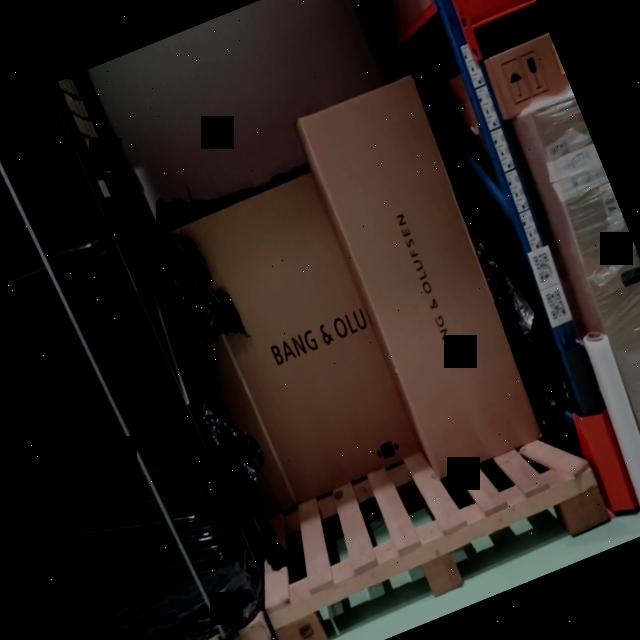box: (299, 70, 542, 480)
